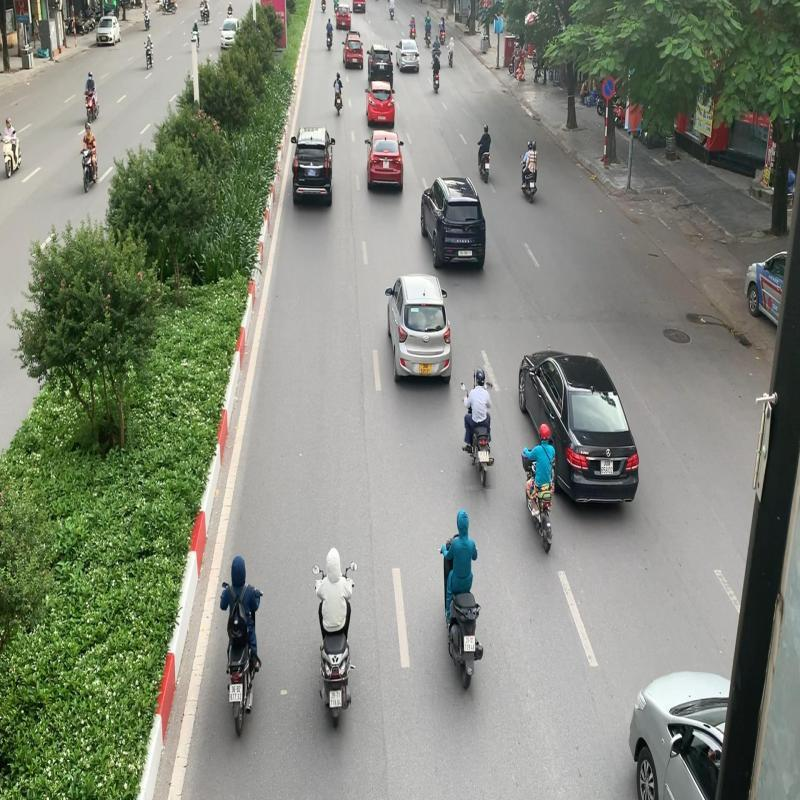helmet: (475, 367, 485, 386)
licenseplate: (478, 452, 487, 464)
motorcyclist: (461, 366, 494, 490)
